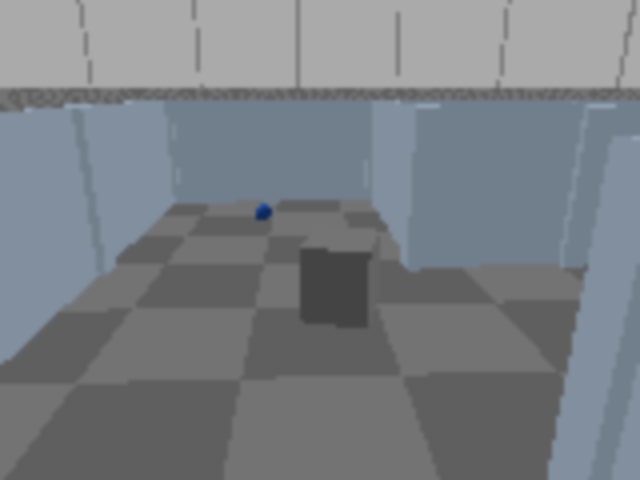obstacle: (300, 226, 381, 330)
puck: (255, 203, 272, 223)
